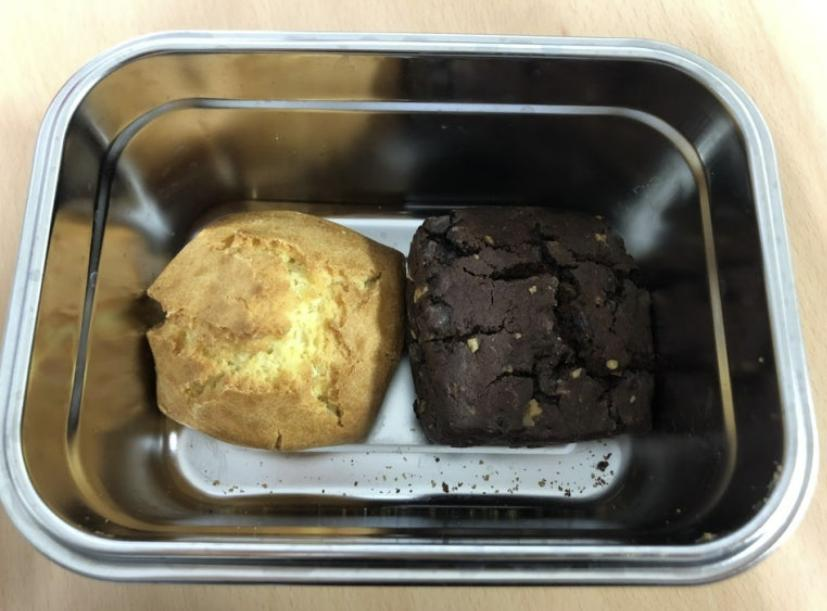Lunch Box: (0, 33, 816, 584)
